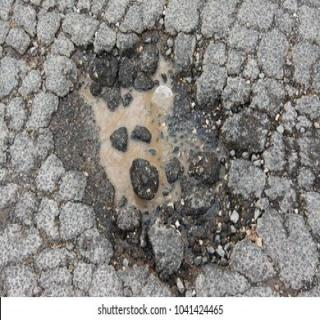pothole: (46, 26, 270, 295)
